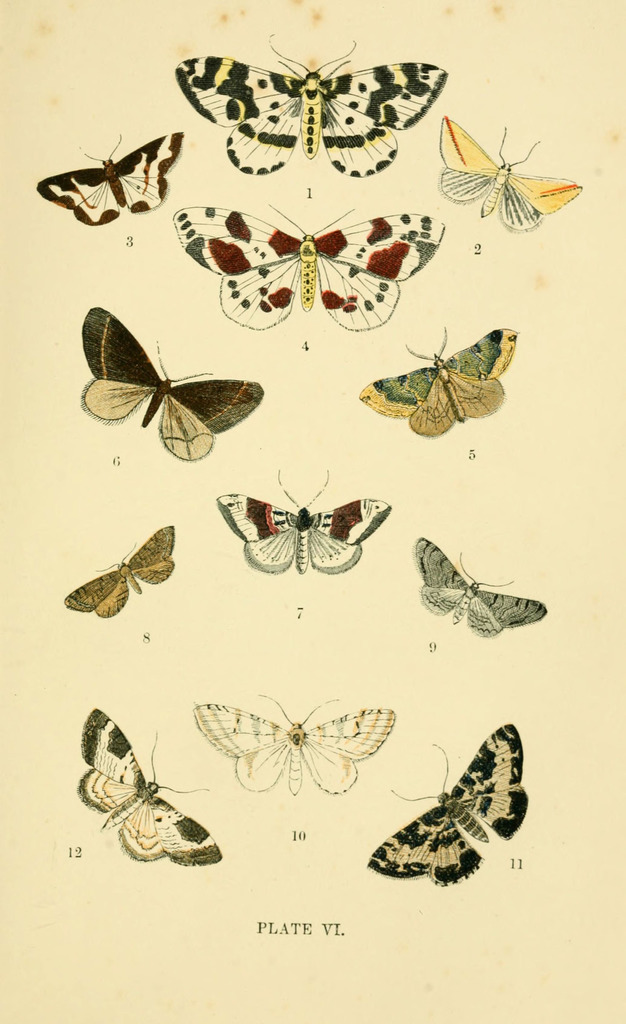Butterfly: (166, 187, 454, 342), (173, 33, 455, 184), (59, 294, 272, 481), (65, 706, 216, 891), (383, 711, 523, 908), (186, 687, 407, 798), (437, 115, 604, 260), (352, 329, 526, 451), (402, 520, 564, 648), (208, 484, 400, 580), (52, 519, 200, 637), (35, 121, 185, 227)
